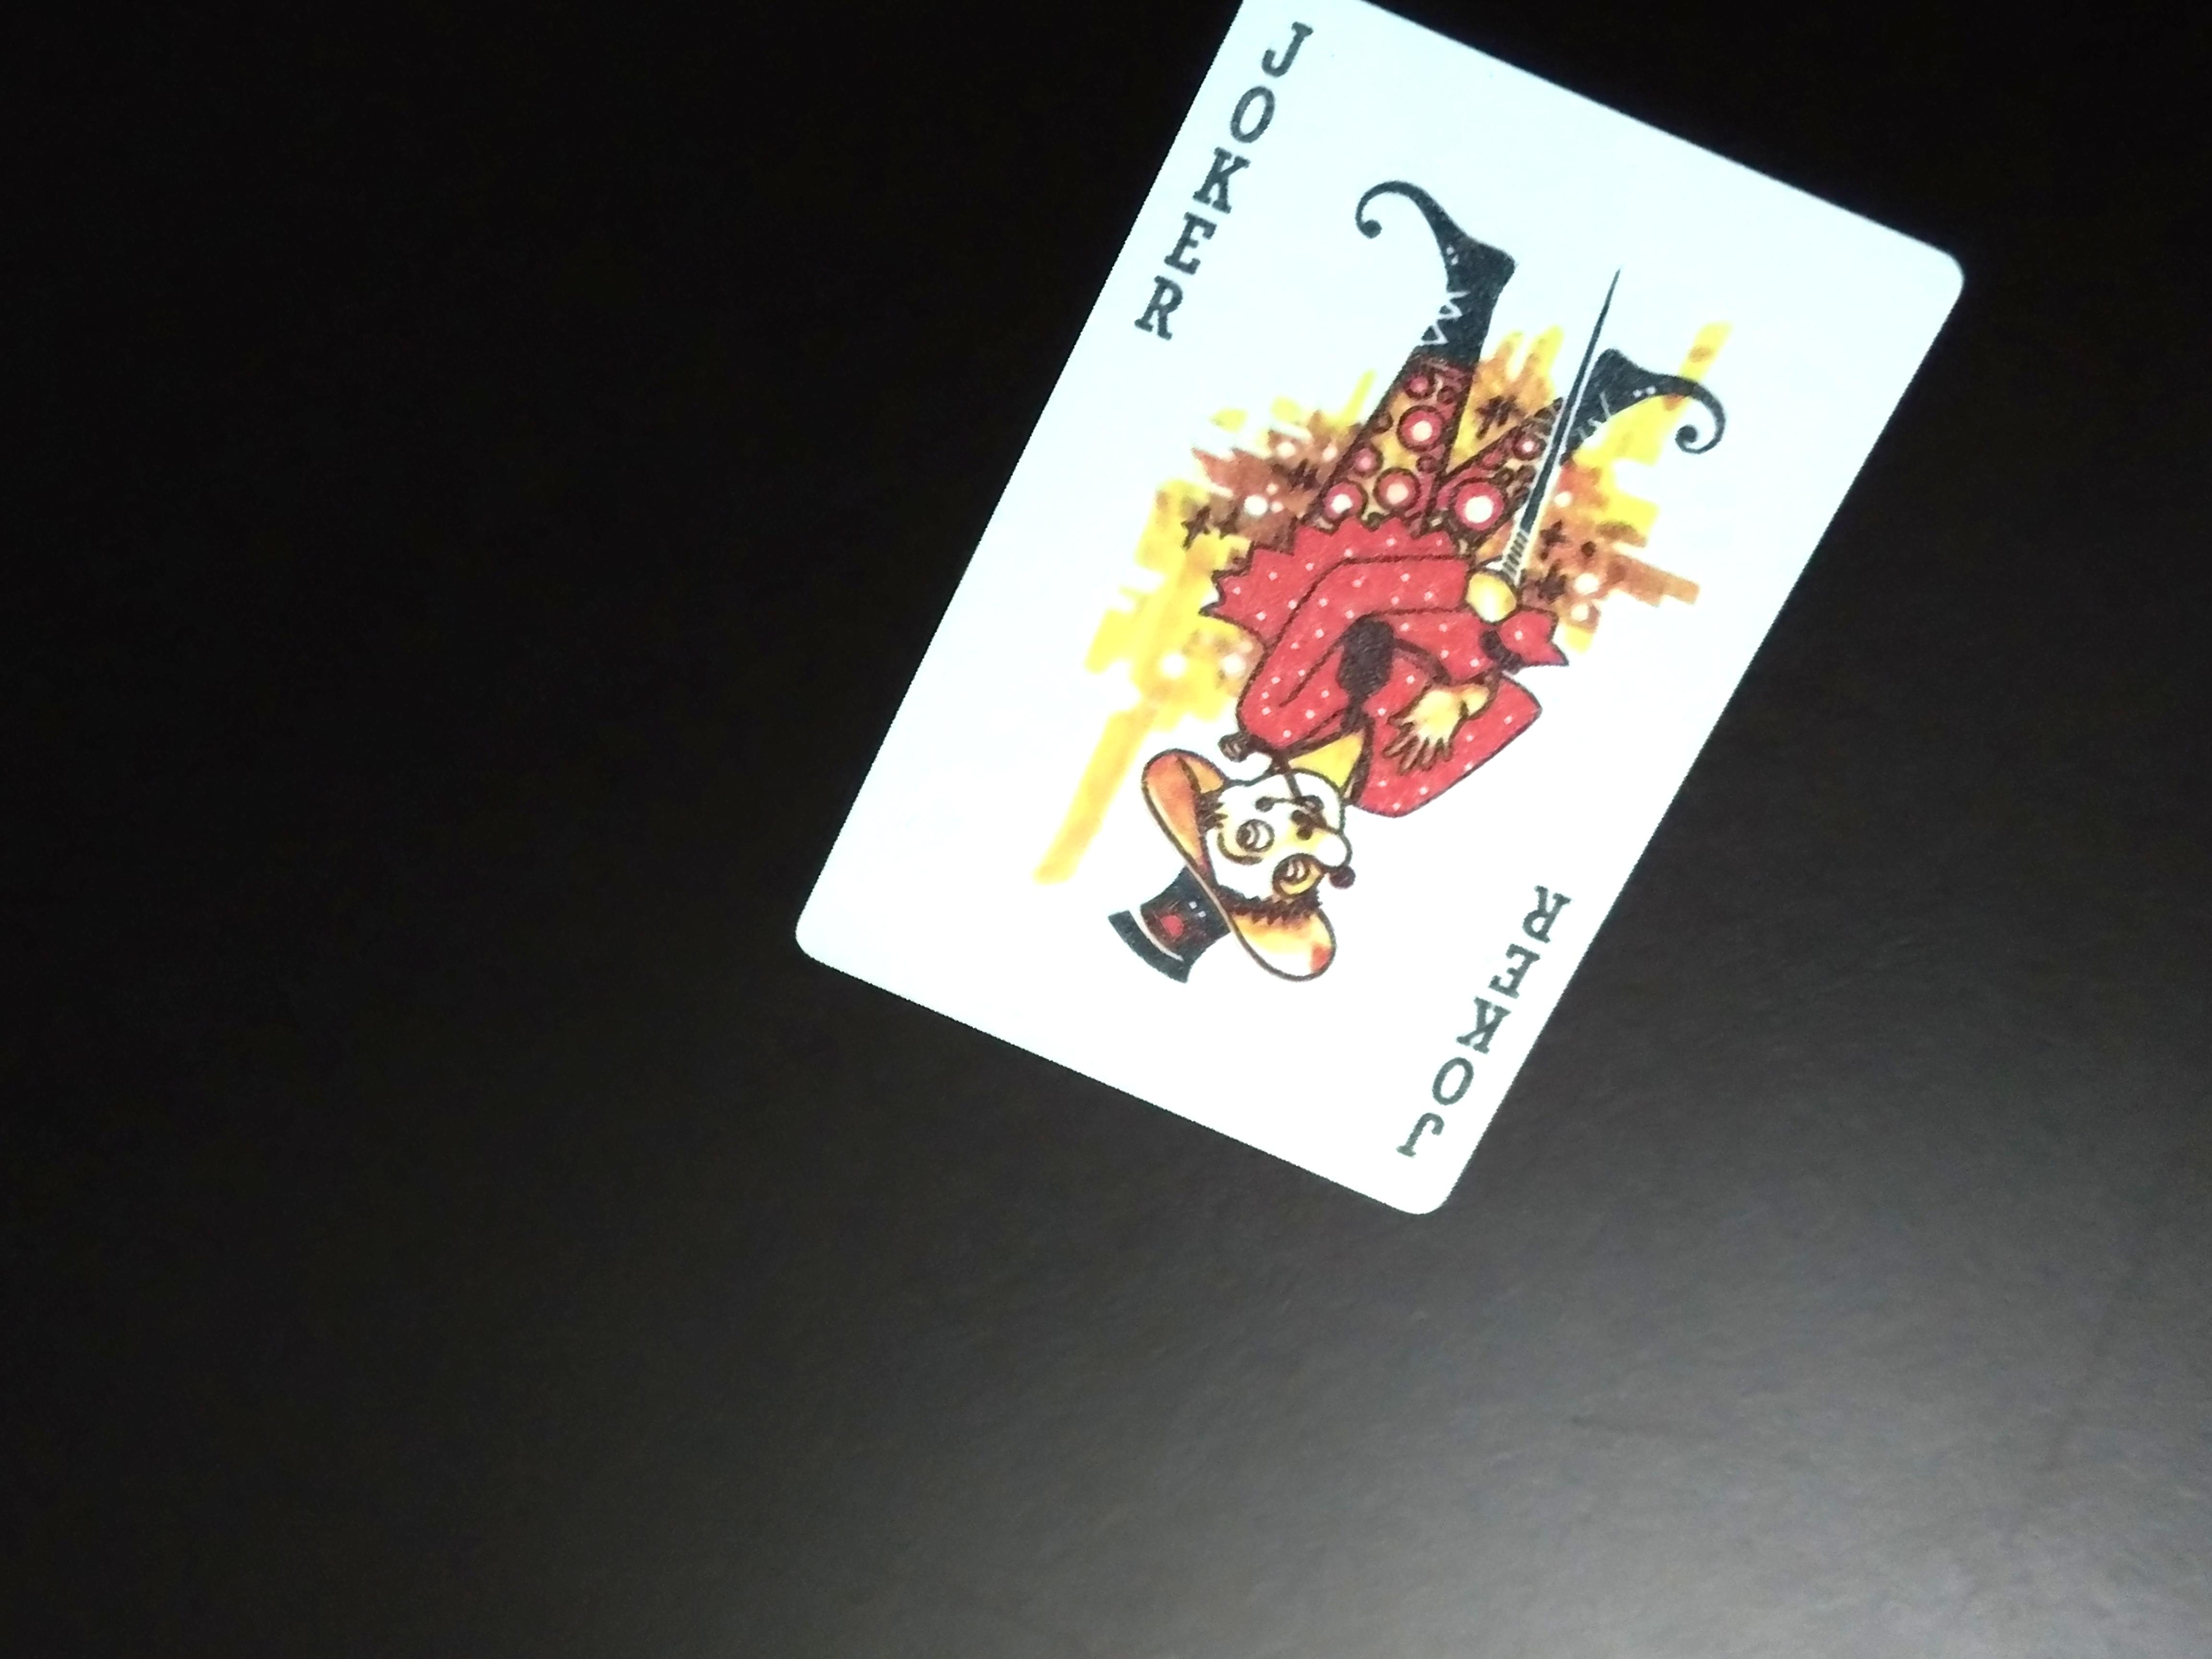JOKER: (1125, 17, 1325, 366)
